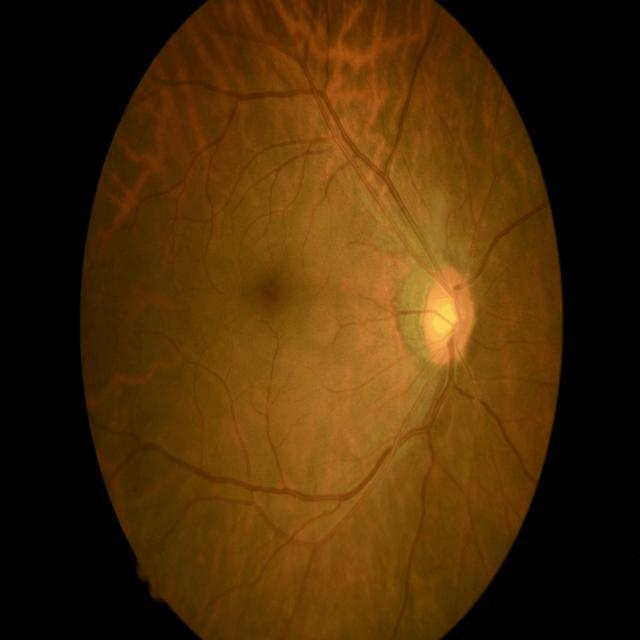cup: (430, 281, 461, 341)
disk: (421, 266, 478, 368)
